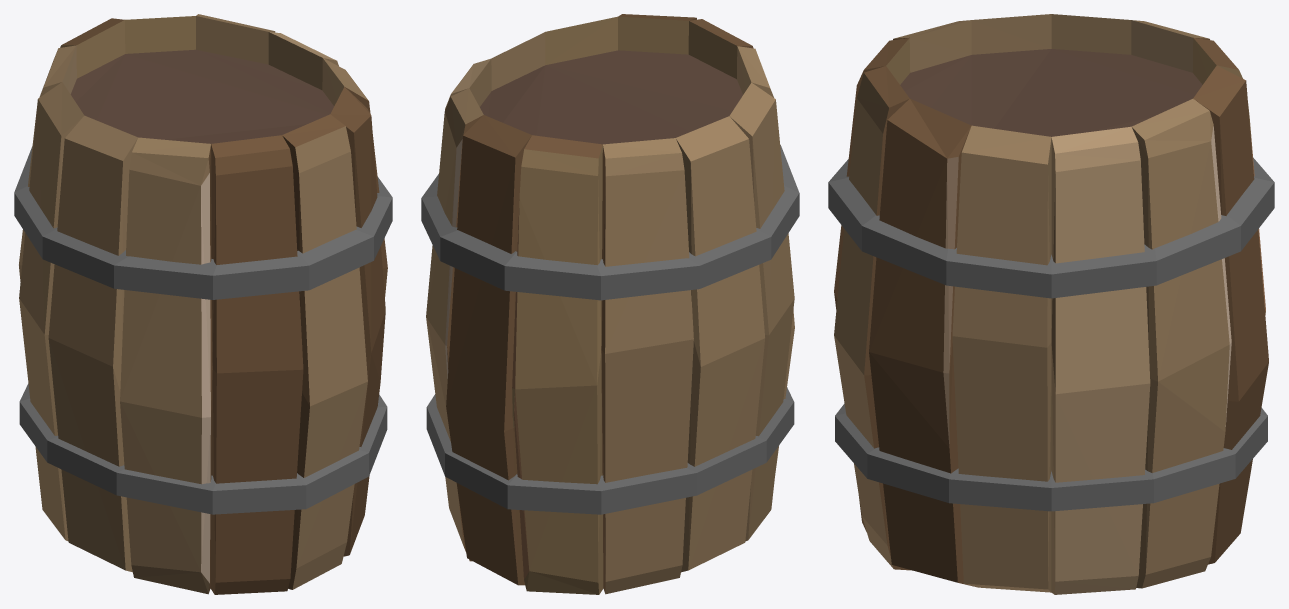
File: EA_M_Prop_Barrel_Small_01.fbx
3 views of the same model, side by side, from view 1: azimuth 30°, elevation 25°; view 2: azimuth 150°, elevation 25°; view 3: azimuth 270°, elevation 25° (orthographic). The views are drawn at different scales.
Parts seen in each view (by area): view 1: EA_M_Prop_Barrel_Small_01_LOD0; view 2: EA_M_Prop_Barrel_Small_01_LOD0; view 3: EA_M_Prop_Barrel_Small_01_LOD0.
Part boxes in pixels (box(x1,y1,x2,y2)): EA_M_Prop_Barrel_Small_01_LOD0: box(14, 14, 392, 594); EA_M_Prop_Barrel_Small_01_LOD0: box(421, 14, 799, 594); EA_M_Prop_Barrel_Small_01_LOD0: box(828, 14, 1274, 594).
Size of what is drawn, in the model's own units: 1.03 by 1.39 by 1.17.
